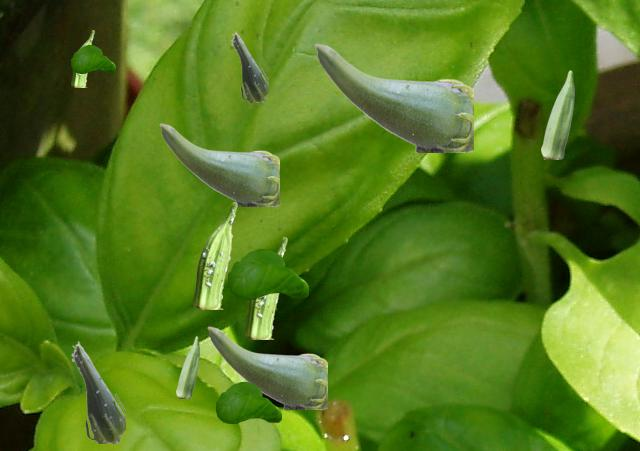okra: (314, 43, 472, 151), (159, 123, 278, 205), (207, 326, 326, 408), (71, 341, 124, 442), (193, 202, 236, 308), (245, 237, 286, 338), (541, 70, 573, 158), (231, 31, 267, 101), (176, 336, 198, 397), (71, 30, 93, 86)
